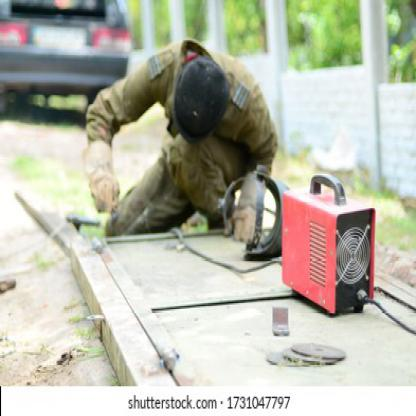with_gloves: (224, 169, 262, 241), (84, 141, 119, 216)
